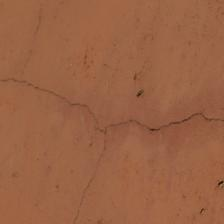Crack: (18, 52, 117, 166), (23, 79, 80, 144), (26, 12, 58, 100)
